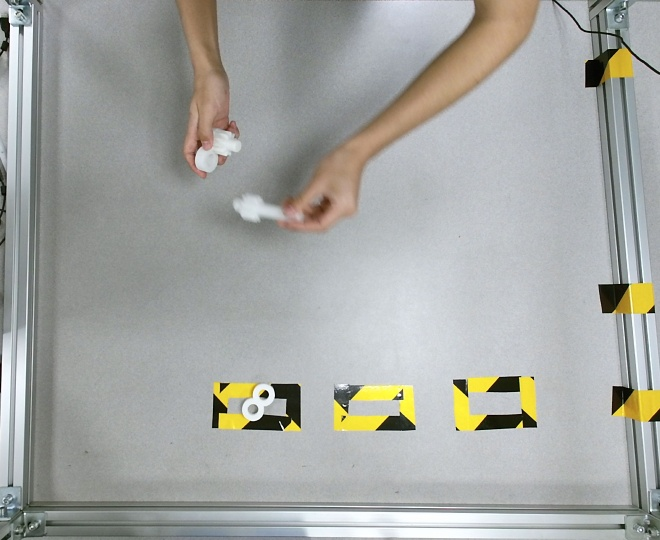stage_2: (195, 128, 242, 173)
